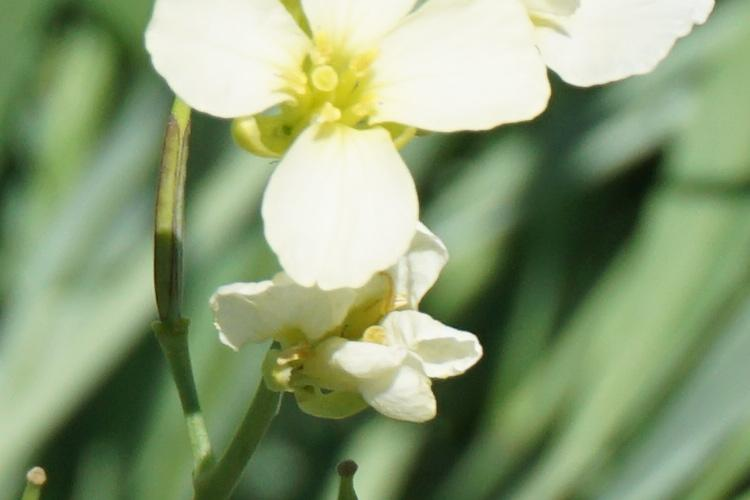pod: (146, 96, 203, 397), (322, 460, 361, 497), (24, 465, 54, 497)
white: (151, 7, 542, 274), (225, 250, 497, 419), (521, 9, 705, 81)
